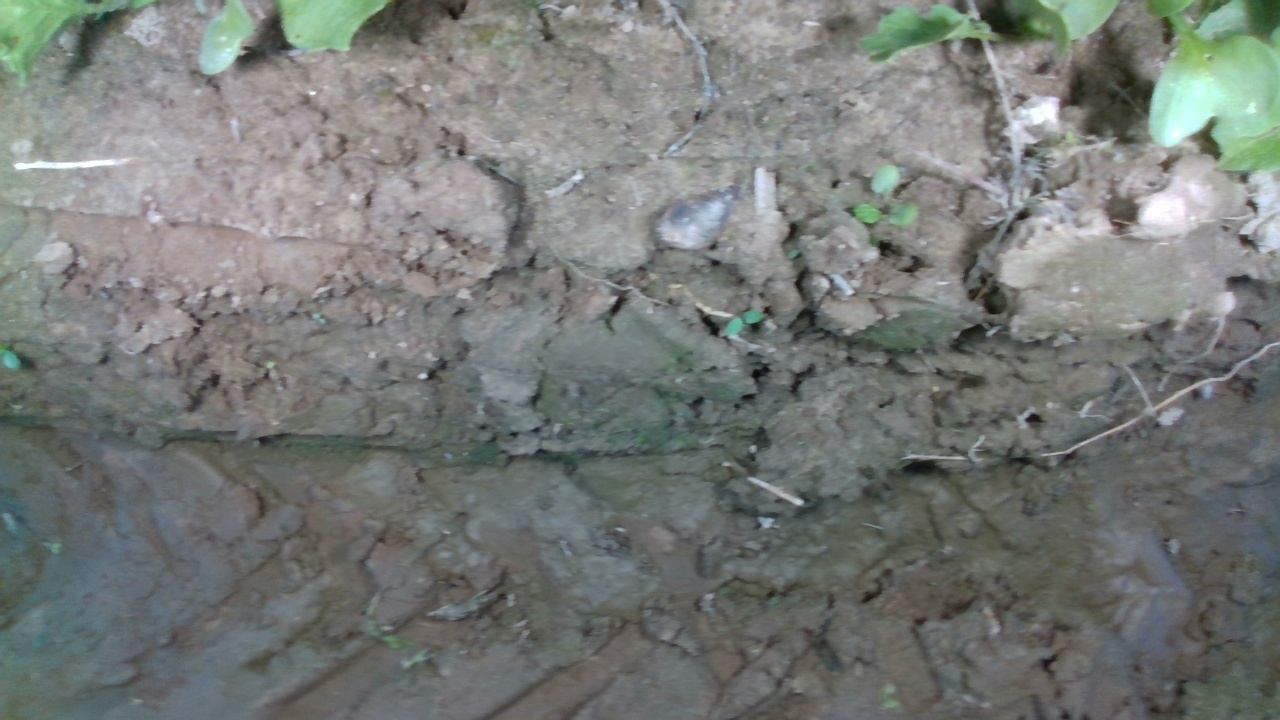weed: (718, 307, 766, 340)
